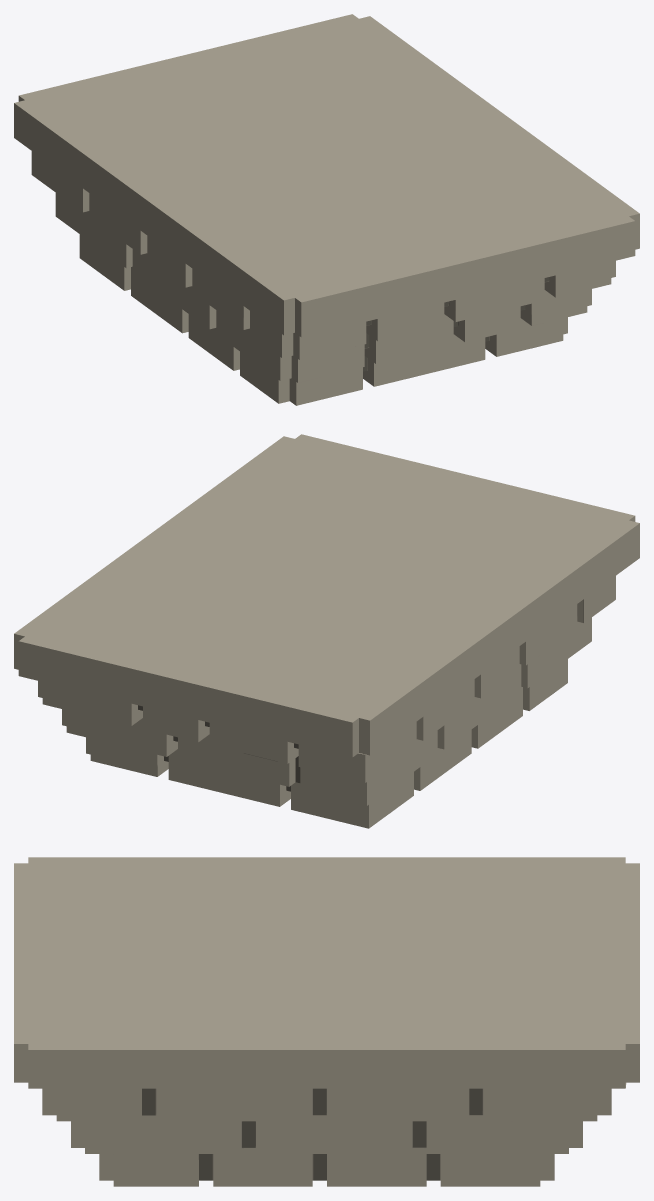
File: Column_2.fbx
3 views of the same model, one above another, from view 1: azimuth 30°, elevation 25°; view 2: azimuth 150°, elevation 25°; view 3: azimuth 270°, elevation 25° (orthographic). The views are drawn at different scales.
Visible parts, largest first — view 1: Walls-1Cleaned; view 2: Walls-1Cleaned; view 3: Walls-1Cleaned.
Part boxes in pixels (x1,y1,x2,y2): Walls-1Cleaned: (14,14,639,405); Walls-1Cleaned: (14,434,639,828); Walls-1Cleaned: (14,857,639,1186).
Bounding box in the file's own units: 320 × 120 × 440.
